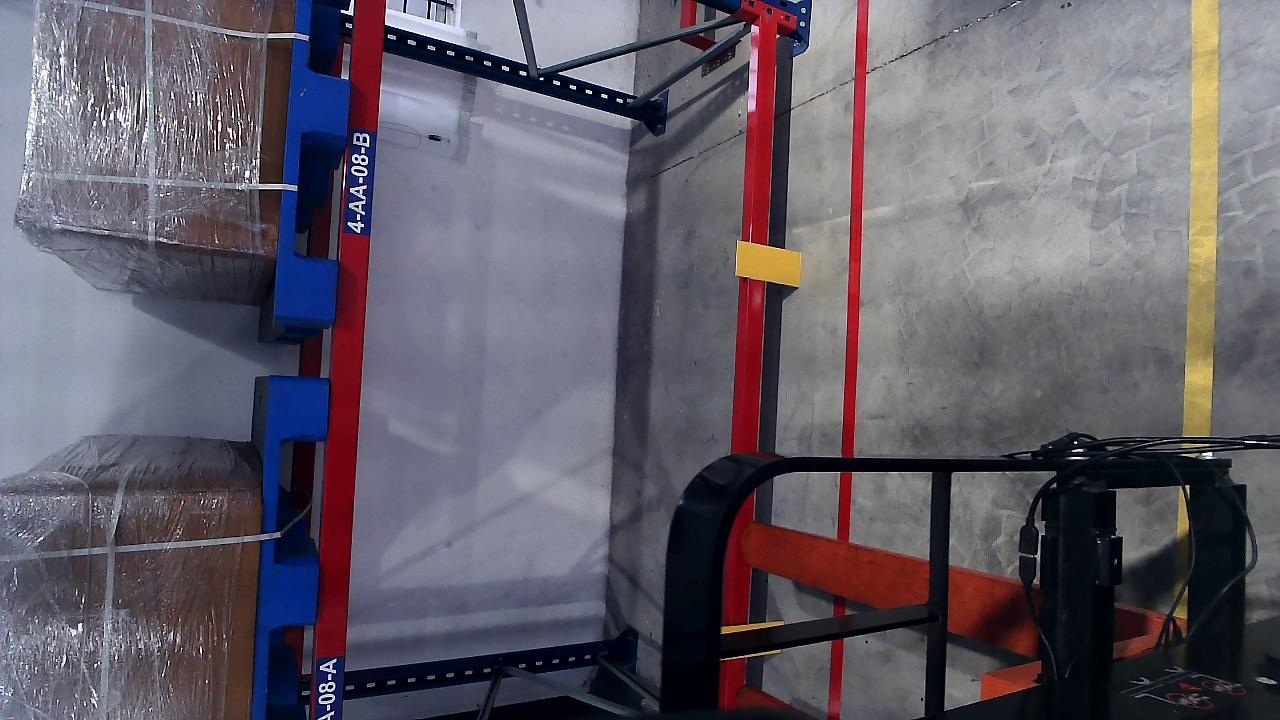h_rack: (315, 0, 388, 720), (732, 10, 781, 451)
orange_strip: (735, 241, 801, 287)
red_line: (840, 10, 869, 455)
small_pallet: (270, 0, 367, 315), (255, 375, 325, 720)
yellow_line: (1182, 0, 1221, 434)
